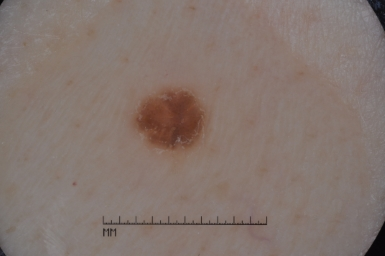seborrheic keratosis: (105, 68, 231, 174)
